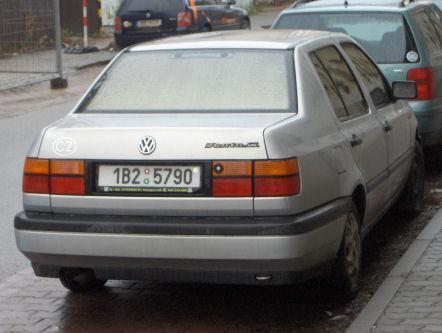placa de veiculo: (90, 155, 210, 202), (130, 14, 165, 31)
